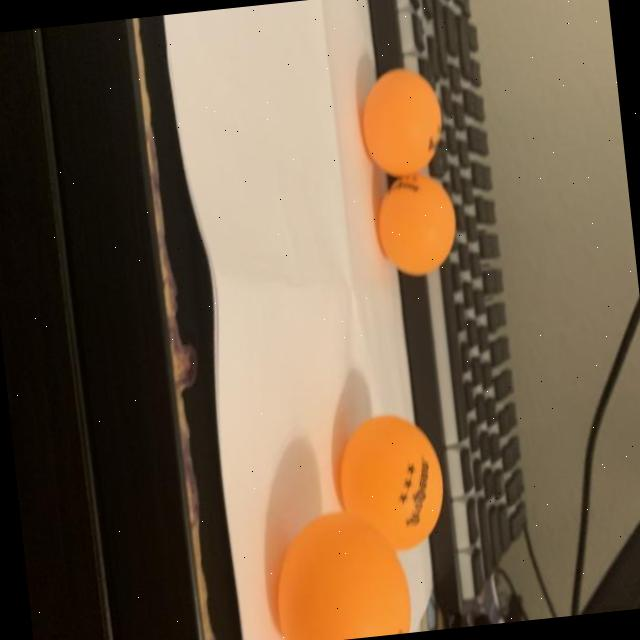ping-pong-ball: (260, 500, 418, 640), (326, 401, 454, 562), (353, 61, 449, 185), (368, 168, 466, 282)
